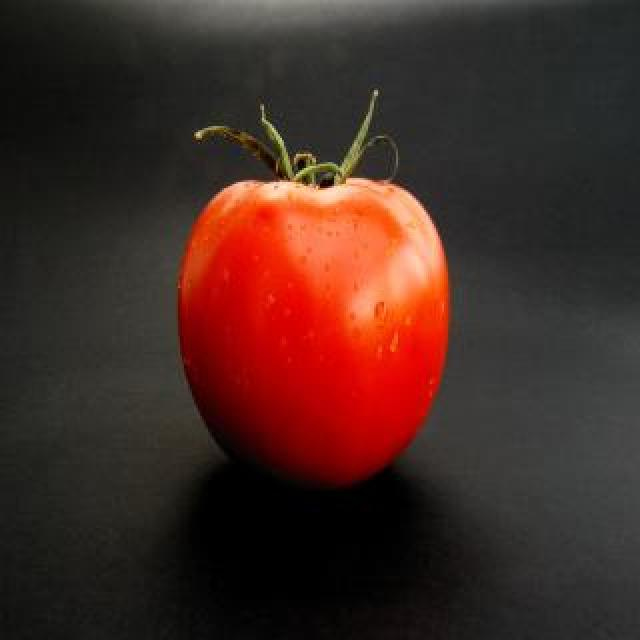Wet: (168, 86, 467, 507)
